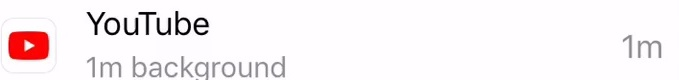name: (77, 1, 222, 46)
time: (82, 51, 127, 80)
